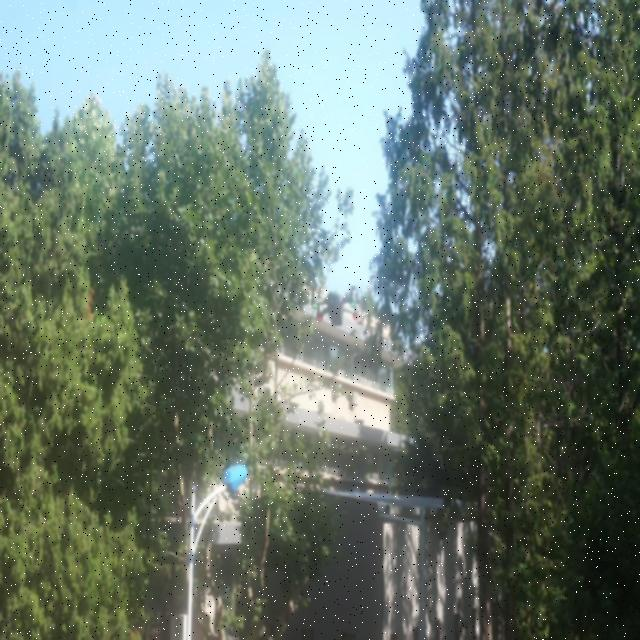UAV: (310, 284, 360, 326)
